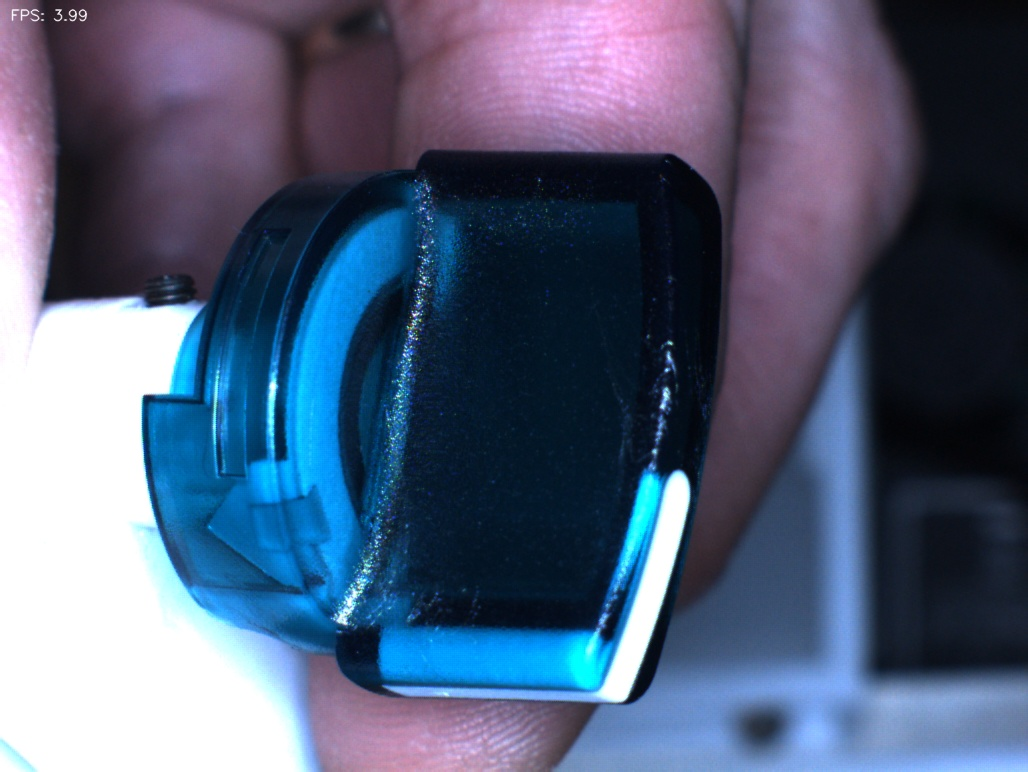Givrage: (404, 574, 494, 660)
